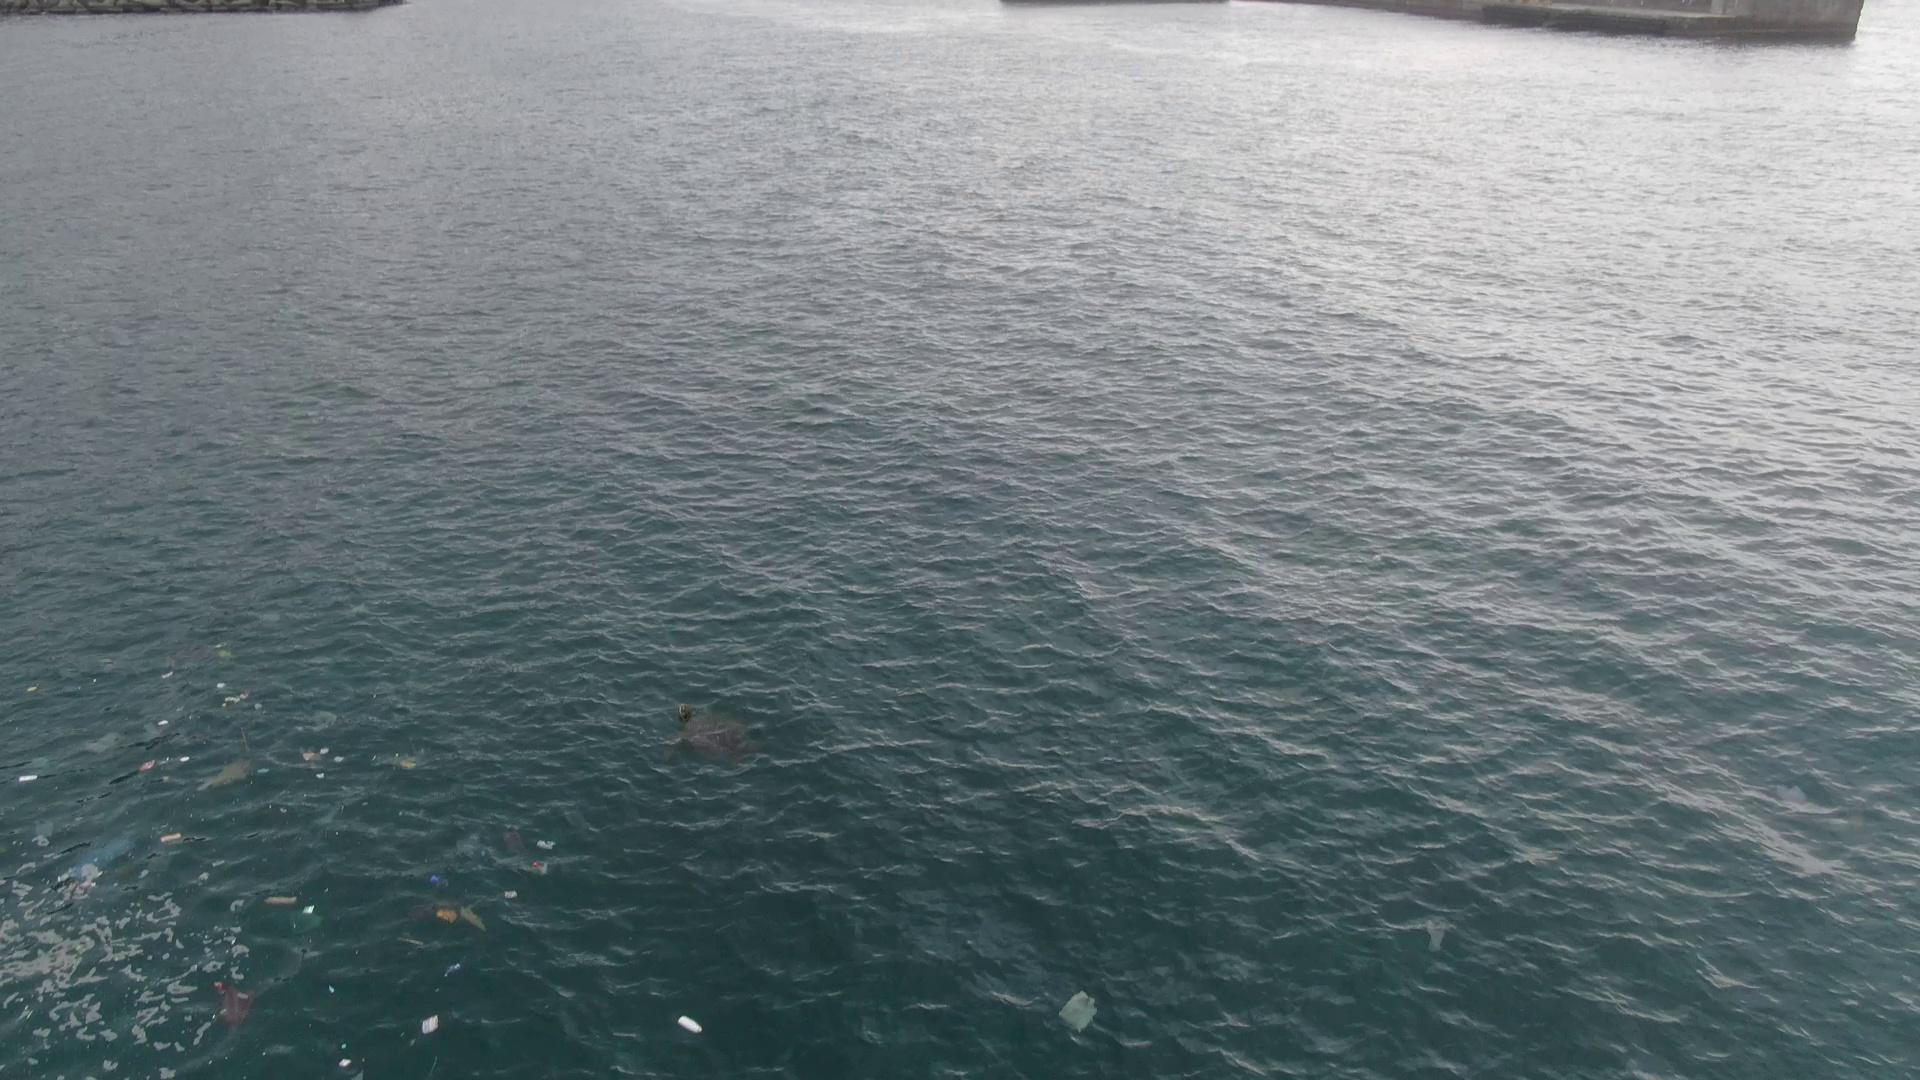garbage: (676, 708, 766, 771), (214, 981, 257, 1036), (508, 832, 556, 877), (75, 839, 136, 873), (436, 903, 487, 934), (1062, 992, 1098, 1033), (301, 746, 344, 779), (204, 765, 251, 786), (675, 1013, 705, 1036), (418, 1015, 440, 1038), (266, 894, 297, 906), (218, 644, 233, 662), (396, 757, 417, 769), (396, 938, 427, 945), (431, 873, 448, 887), (18, 771, 38, 783), (444, 963, 462, 976), (160, 833, 182, 843), (140, 760, 156, 771), (339, 1058, 351, 1068), (504, 890, 517, 899), (224, 696, 241, 703)
